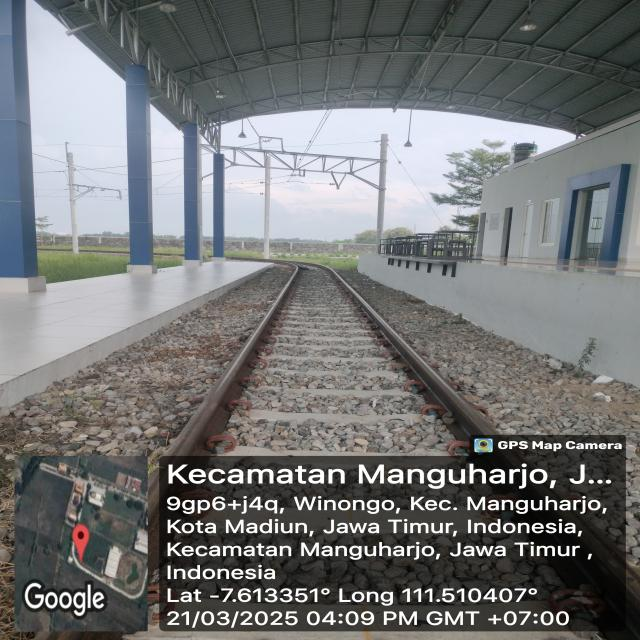rail-detection: (165, 261, 500, 456)
